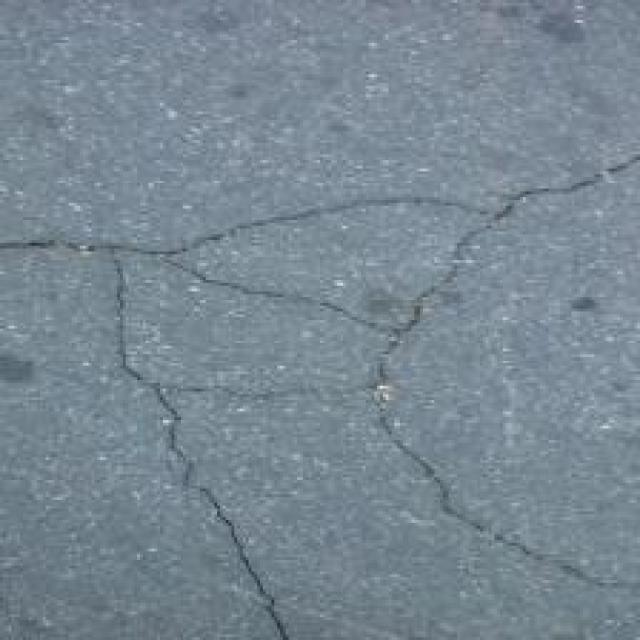SurfaceCrack: (24, 176, 640, 614)
